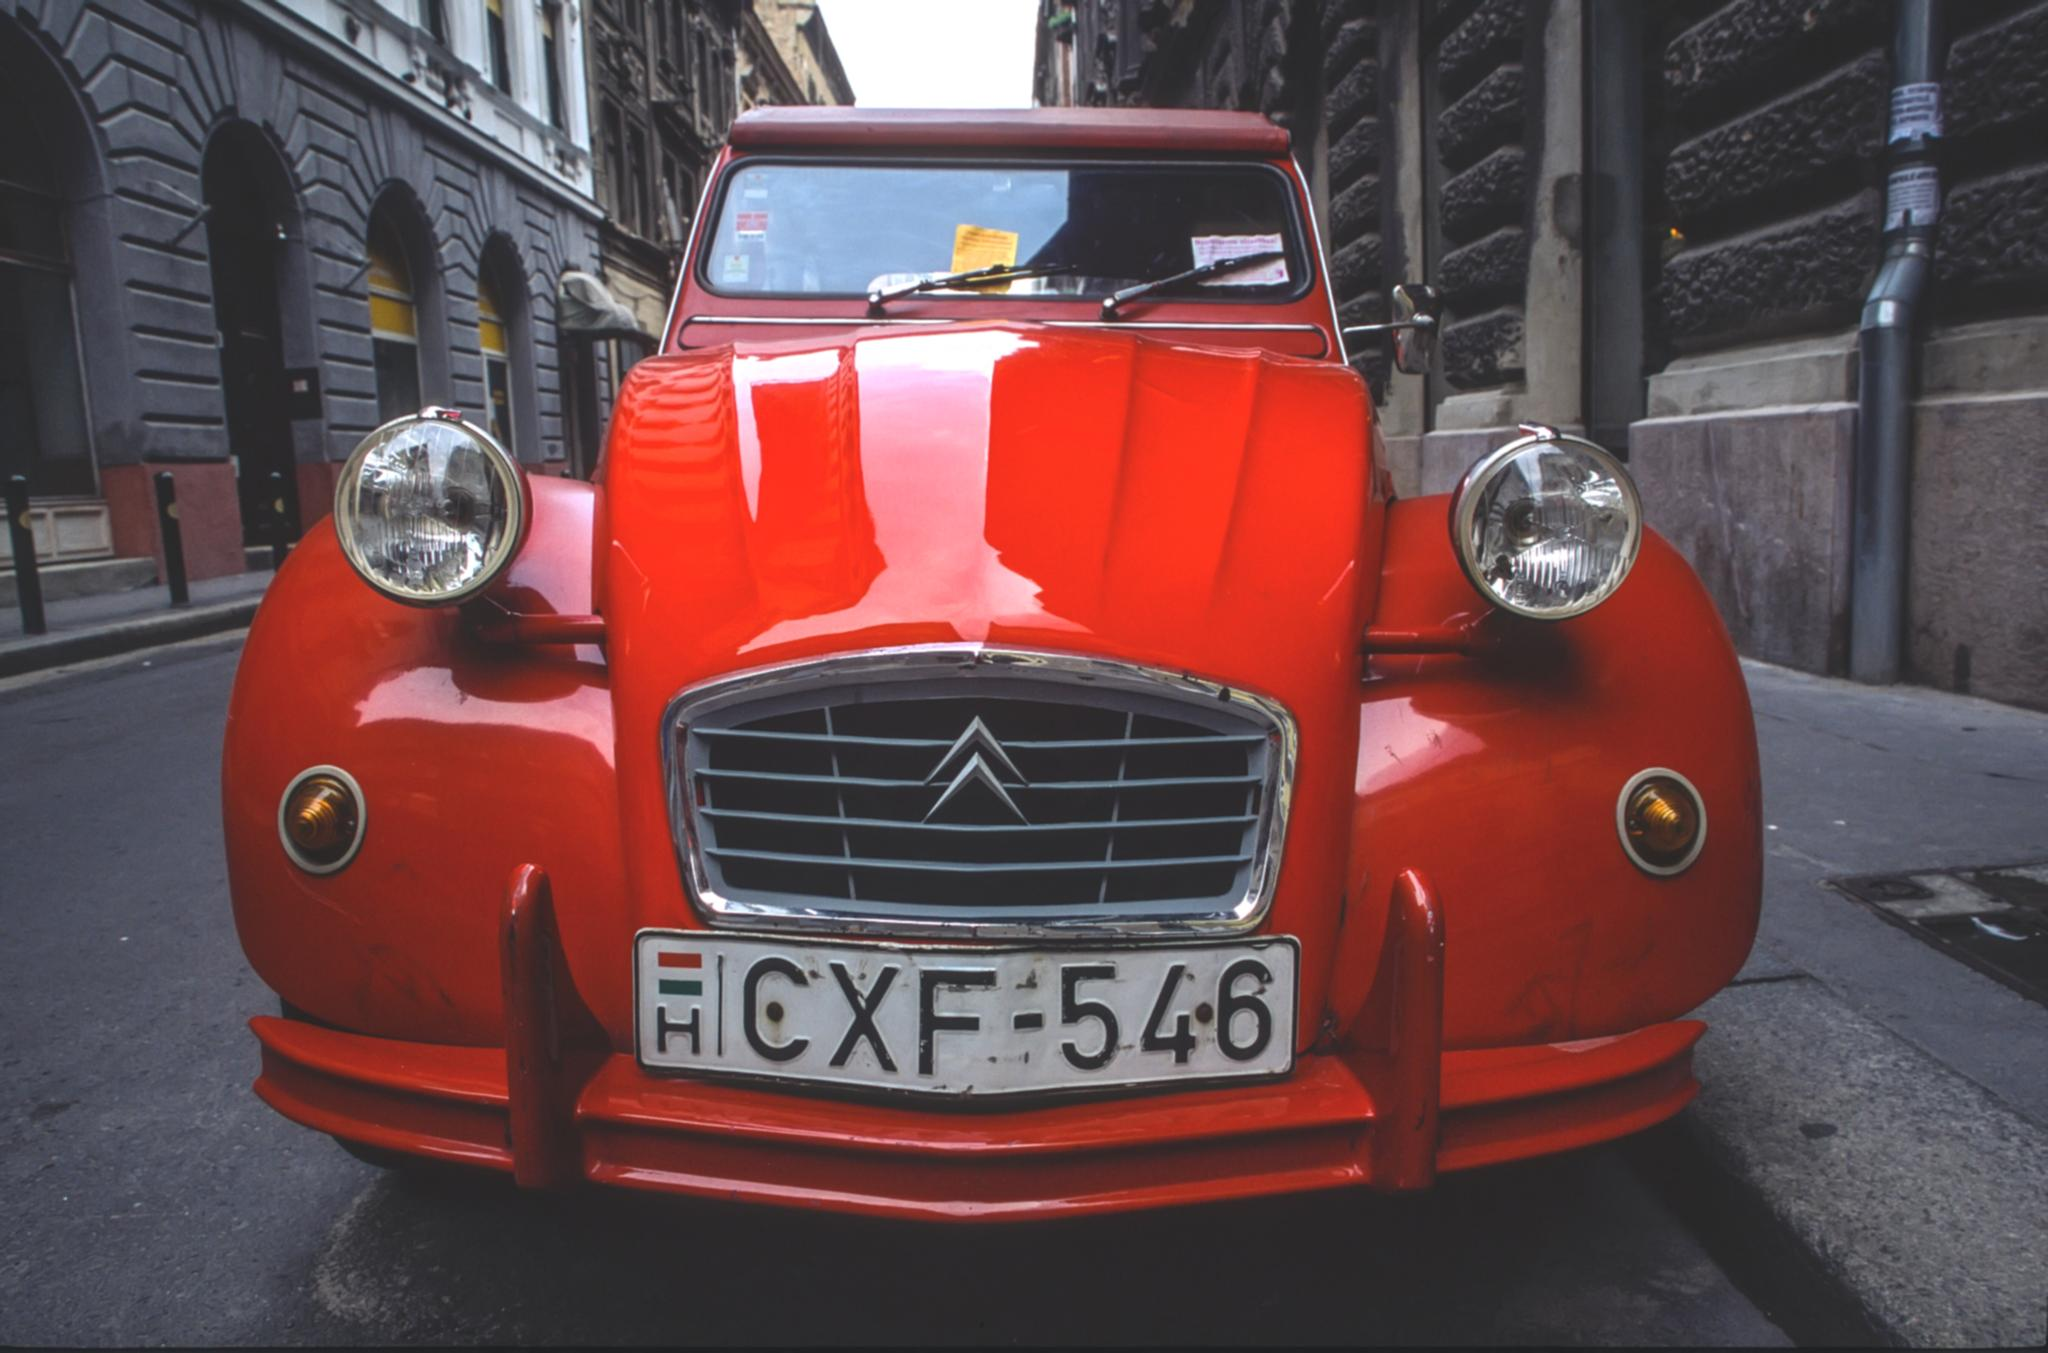Citroen: (890, 686, 1058, 862)
